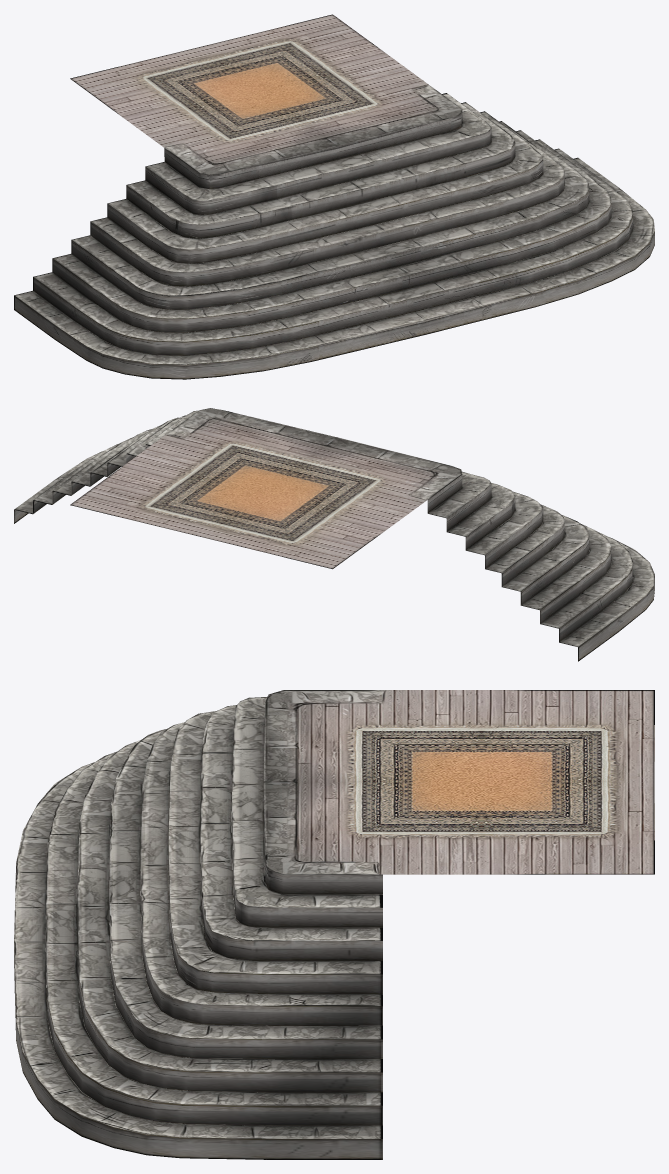
The model's file is lowerStairs.fbx.
3 renders of one model, top to bottom at view 1: azimuth 30°, elevation 25°; view 2: azimuth 150°, elevation 25°; view 3: azimuth 270°, elevation 25°, orthographic. The views are drawn at different scales.
Parts seen in each view (by area): view 1: pCube47; view 2: pCube47; view 3: pCube47.
Boxes of the visible parts, <box> form: pCube47: <box>14,14,654,379</box>; pCube47: <box>14,408,654,661</box>; pCube47: <box>14,690,654,1159</box>.
Size of the model in its own units: 768 by 163 by 527.
